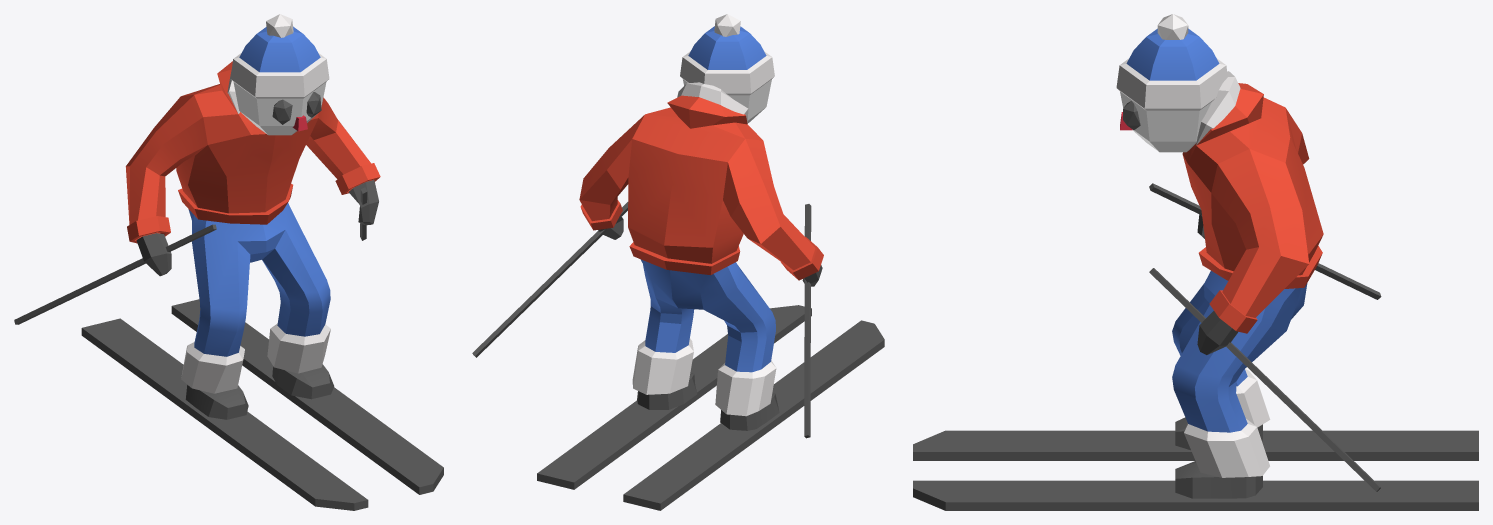
The model's file is Player.fbx.
3 renders of one model, left to right at view 1: azimuth 30°, elevation 25°; view 2: azimuth 150°, elevation 25°; view 3: azimuth 270°, elevation 25°, orthographic. The views are drawn at different scales.
Visible parts, largest first — view 1: Player; view 2: Player; view 3: Player.
Part boxes in pixels (x1,y1,x2,y2): Player: (14, 14, 443, 510); Player: (472, 14, 884, 510); Player: (913, 14, 1478, 510).
Bounding box in the file's own units: 13.59 × 14.94 × 16.61.
Materials: 1 (1 with a texture image).
